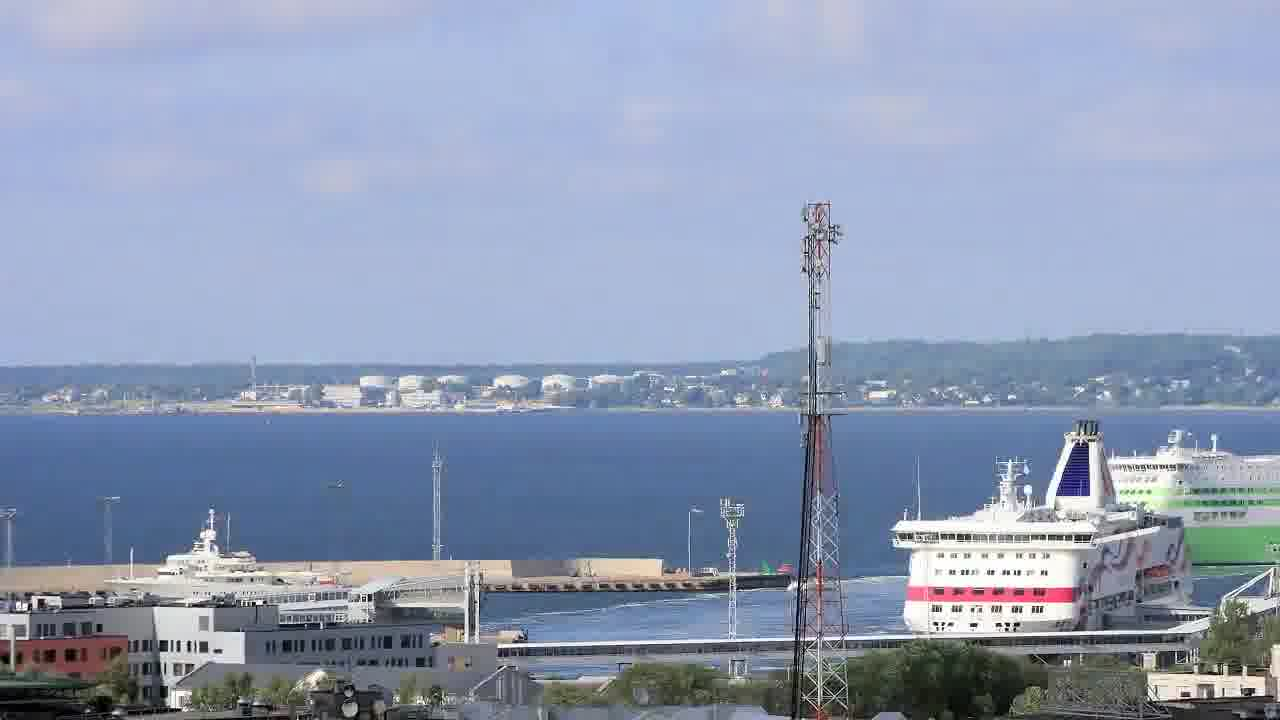type-3: (868, 415, 1225, 638), (1077, 445, 1279, 590), (84, 511, 353, 609)
